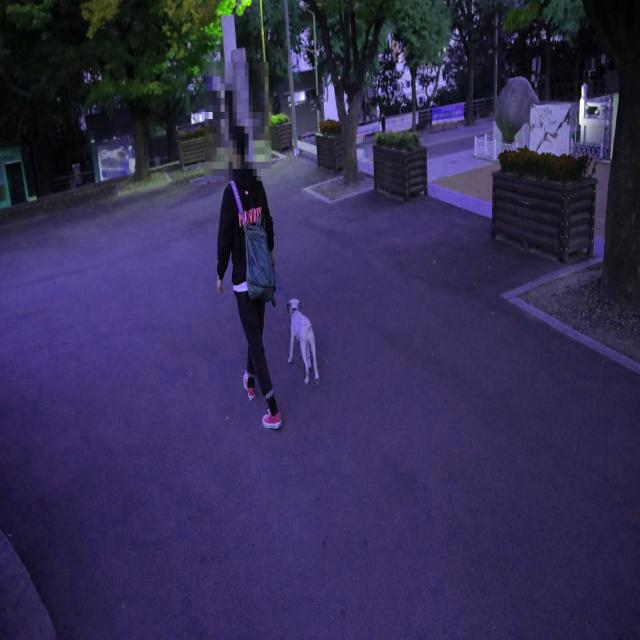Leashed_Dog: (244, 245, 321, 386)
